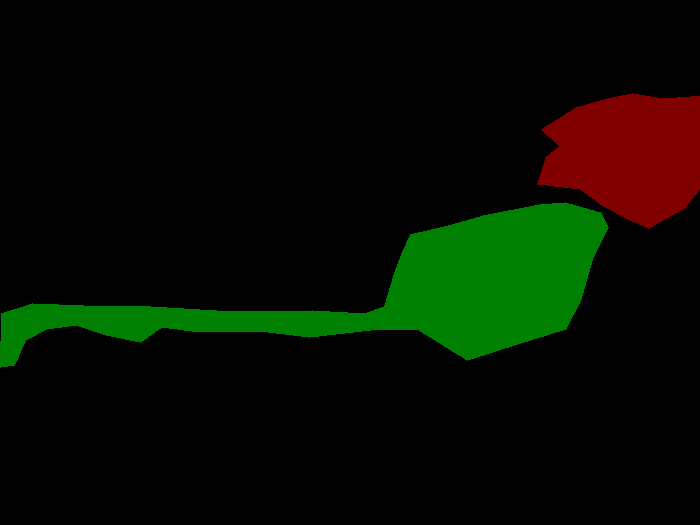fire: (0, 202, 608, 367), (537, 93, 699, 228)
